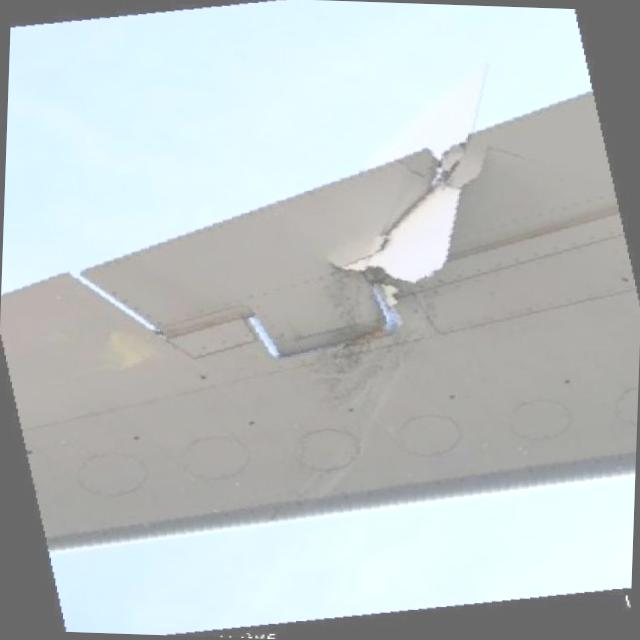crack: (314, 138, 566, 296)
